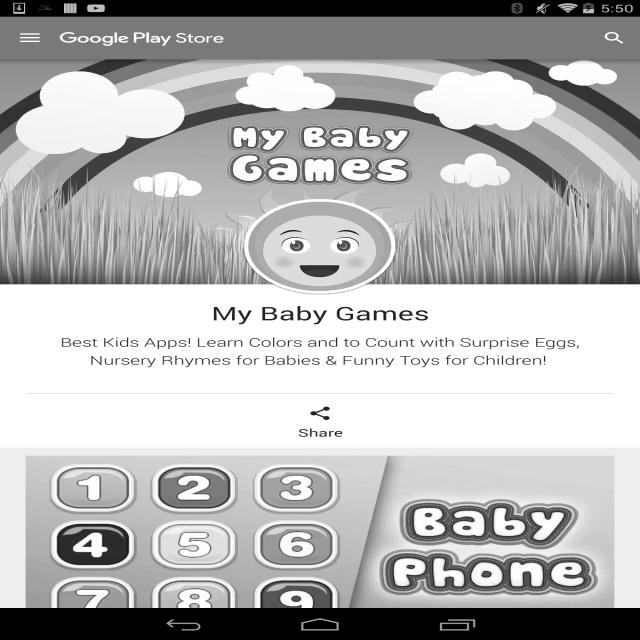Button: (0, 393, 640, 448)
ImageButton: (0, 17, 60, 59)
ImageView: (0, 59, 640, 284), (26, 456, 614, 635), (243, 199, 397, 295), (60, 30, 224, 46), (307, 406, 333, 422)
TextView: (0, 334, 640, 380), (0, 284, 640, 326), (589, 22, 640, 54), (298, 425, 342, 440)
